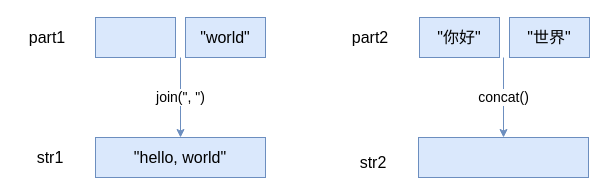
This 607x195 diagram has some shape labels left out. The centre of each missing label's shape, as x and y in pixels:
"hello": [135,37]
"你好世界": [503,157]
